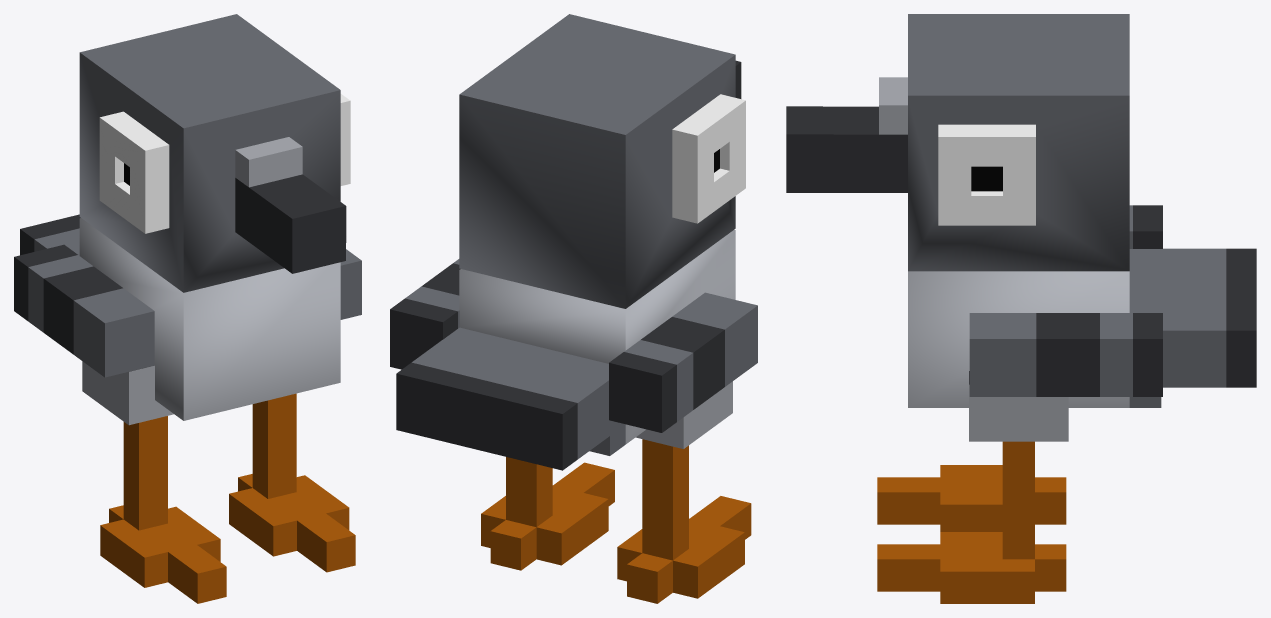
The model's file is pigeon.fbx.
The picture shows the model from 3 angles, left to right: view 1: azimuth 30°, elevation 25°; view 2: azimuth 150°, elevation 25°; view 3: azimuth 270°, elevation 25°; orthographic projection. The views are drawn at different scales.
Parts seen in each view (by area): view 1: Head, Body, LegR, LegL; view 2: Head, Body, LegR, LegL; view 3: Head, Body, LegL, LegR.
Part boxes in pixels (bbox=[...]): Head: bbox=[79, 14, 350, 292]; Body: bbox=[14, 214, 361, 425]; LegR: bbox=[100, 416, 226, 603]; LegL: bbox=[229, 393, 355, 572]; Head: bbox=[459, 14, 745, 308]; Body: bbox=[390, 230, 757, 470]; LegR: bbox=[617, 439, 751, 603]; LegL: bbox=[481, 457, 614, 570]; Head: bbox=[786, 14, 1129, 271]; Body: bbox=[908, 205, 1256, 441]; LegL: bbox=[877, 441, 1066, 603]; LegR: bbox=[877, 465, 1066, 531].
Size of the model in its own units: 1.46 by 1.7 by 0.9811.
